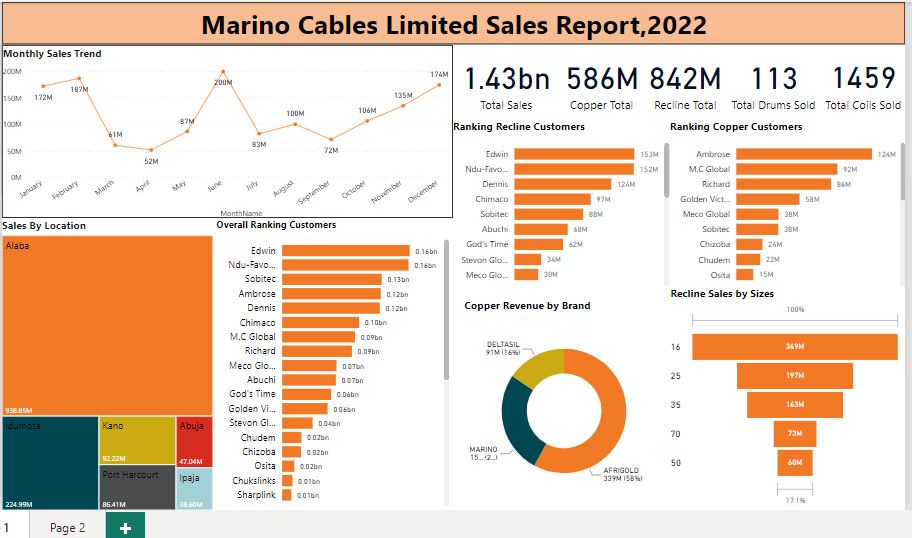

The page's visual inventory and layout, read from the dashboard file:
{"tool":"powerbi","page":{"name":"Page 1","canvas":[1280,720],"ordinal":0},"visuals":[{"type":"textbox","box":[0,0,1280.2,60.5],"z":0},{"type":"card","fields":{"Values":["COPPER 2022.Price"]},"box":[790.6,60.5,118.1,105.1],"z":1000},{"type":"card","fields":{"Values":["COPPER 2022.Drum"]},"box":[1028.2,60.5,132.5,105.1],"z":2000},{"type":"card","fields":{"Values":["RECLINE 2022.Price"]},"box":[908.6,60.5,119.5,105.1],"z":3000},{"type":"card","fields":{"Values":["RECLINE 2022.Coils"]},"box":[1160.6,60.5,119.5,105.1],"z":4000},{"type":"donutChart","title":"Copper Revenue by Brand","fields":{"Category":["COPPER 2022.BRAND"],"Y":["COPPER 2022.Price"]},"box":[650.6,419.5,292,300.5],"z":5000},{"type":"funnel","title":"Recline Sales by Sizes","fields":{"Category":["RECLINE 2022.Size"],"Y":["RECLINE 2022.Price"]},"box":[943.2,403.2,337,316.8],"z":6000},{"type":"clusteredBarChart","title":"Ranking Recline Customers","fields":{"Category":["RECLINE 2022.Customer_Name"],"Y":["RECLINE 2022.Price"]},"box":[639.4,165.6,306.7,237.6],"z":7000},{"type":"clusteredBarChart","title":"Ranking Copper Customers","fields":{"Category":["COPPER 2022.Customer_Name"],"Y":["COPPER 2022.Price"]},"box":[946.1,165.6,334.1,237.6],"z":8000},{"type":"card","fields":{"Values":["Customer Ranking Query.Total_Price_Naira"]},"box":[639.4,60.5,151.2,105.1],"z":9000},{"type":"lineChart","title":"Monthly Sales Trend","fields":{"Y":["Annual Sales Trend.Total_Price_Naira"],"Category":["Annual Sales Trend.MonthName"]},"box":[0,60.5,639.4,244.8],"z":10000},{"type":"treemap","title":"Sales By Location","fields":{"Group":["Location Sales Query.Location"],"Values":["Location Sales Query.Total_Price_Naira"]},"box":[0,306.1,299.1,413.9],"z":11000},{"type":"barChart","title":"Overall Ranking Customers ","fields":{"Category":["Customer Ranking Query.Customer_name"],"Y":["Customer Ranking Query.Total_Price_Naira"]},"box":[299.1,306.1,340.2,413.9],"z":11001}]}

Visuals, with their boxes in screenshot pixels (x1, y1, x2, y2):
textbox: rect(0, 0, 900, 43)
card - COPPER 2022.Price: rect(556, 43, 638, 116)
card - COPPER 2022.Drum: rect(722, 43, 816, 116)
card - RECLINE 2022.Price: rect(638, 43, 722, 116)
card - RECLINE 2022.Coils: rect(815, 43, 899, 116)
"Copper Revenue by Brand" donutChart: rect(457, 295, 662, 506)
"Recline Sales by Sizes" funnel: rect(663, 283, 900, 506)
"Ranking Recline Customers" clusteredBarChart: rect(449, 116, 665, 283)
"Ranking Copper Customers" clusteredBarChart: rect(665, 116, 900, 283)
card - Customer Ranking Query.Total_Price_Naira: rect(449, 43, 556, 116)
"Monthly Sales Trend" lineChart: rect(0, 43, 449, 215)
"Sales By Location" treemap: rect(0, 215, 210, 506)
"Overall Ranking Customers " barChart: rect(210, 215, 449, 506)
